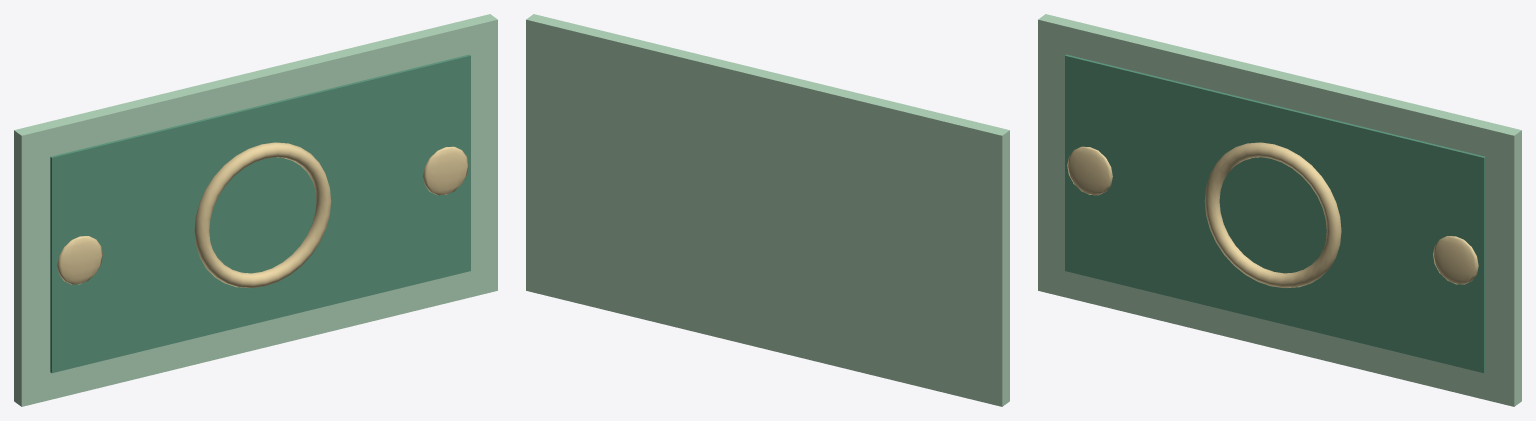
Rendered from banknote.glb.
3 views of the same model, side by side, from view 1: azimuth 30°, elevation 25°; view 2: azimuth 150°, elevation 25°; view 3: azimuth 330°, elevation 25° (orthographic).
Visible parts, largest first — view 1: Banknote inner border, Banknote body, Banknote seal, Banknote rosette, Banknote rosette.001; view 2: Banknote body; view 3: Banknote inner border, Banknote body, Banknote seal, Banknote rosette.001, Banknote rosette.
Boxes of the visible parts, x1,y1,x2,y2 form: Banknote inner border: (50,54,470,373); Banknote body: (14,14,497,406); Banknote seal: (194,142,331,287); Banknote rosette: (423,146,468,195); Banknote rosette.001: (57,236,102,284); Banknote body: (526,14,1009,406); Banknote inner border: (1065,54,1485,373); Banknote body: (1038,14,1521,406); Banknote seal: (1204,142,1341,287); Banknote rosette.001: (1067,146,1112,195); Banknote rosette: (1433,236,1478,284).
Bounding box in the file's own units: 1.25 × 0.68 × 0.0655.
